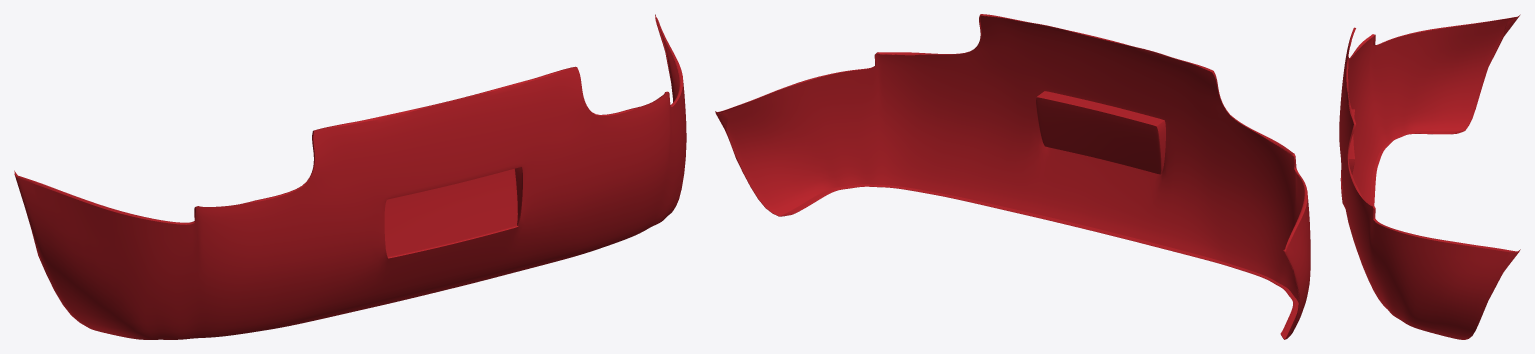
The model's file is pitcrew.glb.
The picture shows the model from 3 angles, left to right: view 1: azimuth 30°, elevation 25°; view 2: azimuth 150°, elevation 25°; view 3: azimuth 270°, elevation 25°; orthographic projection. The views are drawn at different scales.
Visible parts, largest first — view 1: Miata_Aero_RearBarPitcrew; view 2: Miata_Aero_RearBarPitcrew; view 3: Miata_Aero_RearBarPitcrew.
Part boxes in pixels (x1,y1,x2,y2): Miata_Aero_RearBarPitcrew: (14, 14, 686, 339); Miata_Aero_RearBarPitcrew: (715, 14, 1310, 339); Miata_Aero_RearBarPitcrew: (1339, 14, 1520, 339).
Bounding box in the file's own units: 64.84 × 20.67 × 21.12.
